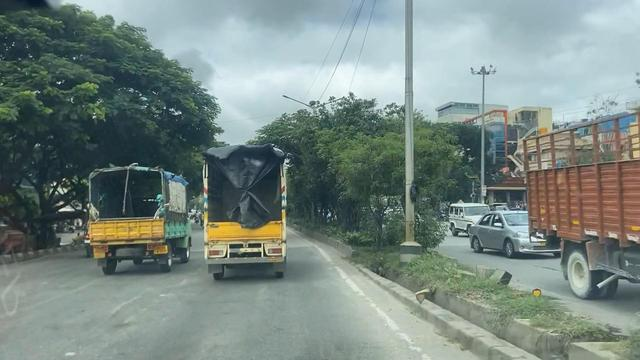HMV: (517, 121, 640, 298), (178, 125, 293, 300), (88, 164, 192, 275)
